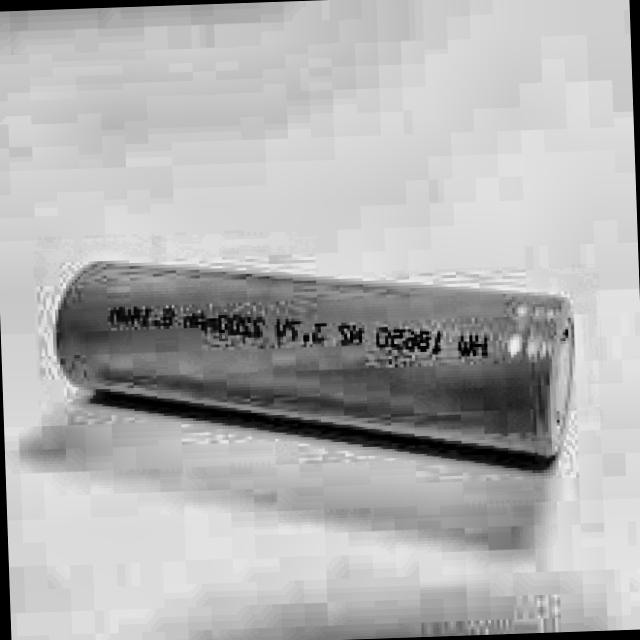Battery: (48, 245, 578, 472)
